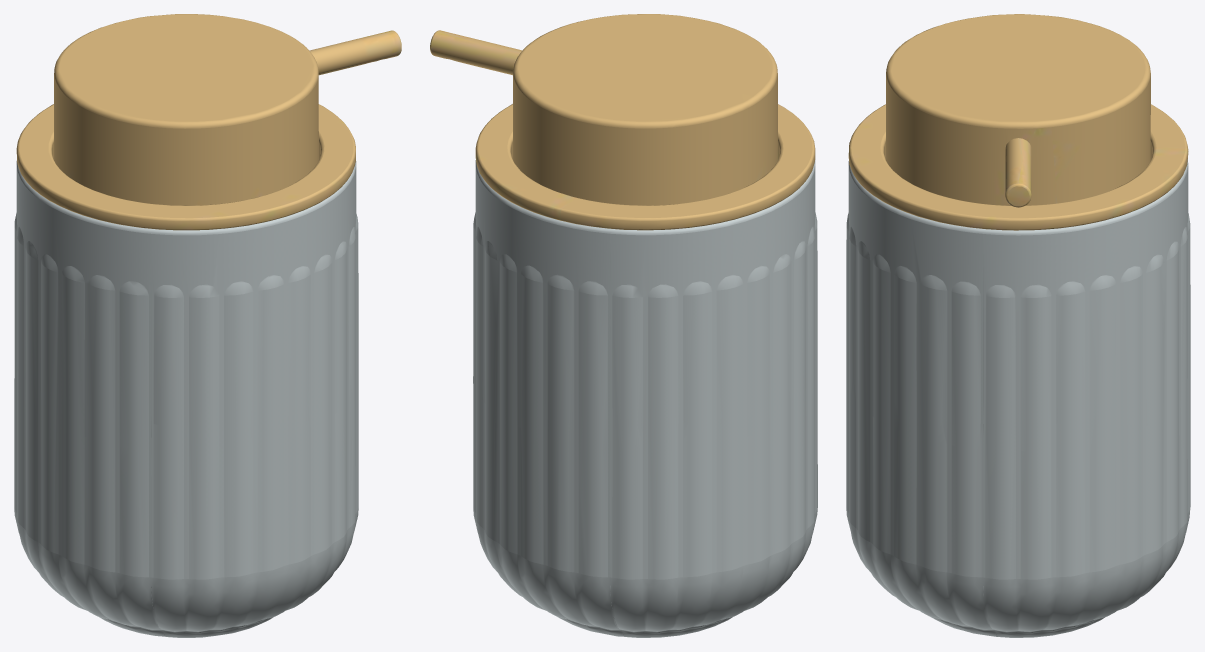
Rendered from silvtjarn_dozownik_myda_90498873.glb.
The picture shows the model from 3 angles, left to right: view 1: azimuth 30°, elevation 25°; view 2: azimuth 150°, elevation 25°; view 3: azimuth 270°, elevation 25°; orthographic projection.
Visible parts, largest first — view 1: silvtjarn_dozownik_myda_90498873; view 2: silvtjarn_dozownik_myda_90498873; view 3: silvtjarn_dozownik_myda_90498873.
Boxes of the visible parts, <box> form: silvtjarn_dozownik_myda_90498873: <box>14,14,401,637</box>; silvtjarn_dozownik_myda_90498873: <box>430,14,817,637</box>; silvtjarn_dozownik_myda_90498873: <box>846,14,1190,637</box>.
Size of the model in its own units: 0.0938 by 0.1324 by 0.0781.
Materials: 4 (4 with a texture image).
